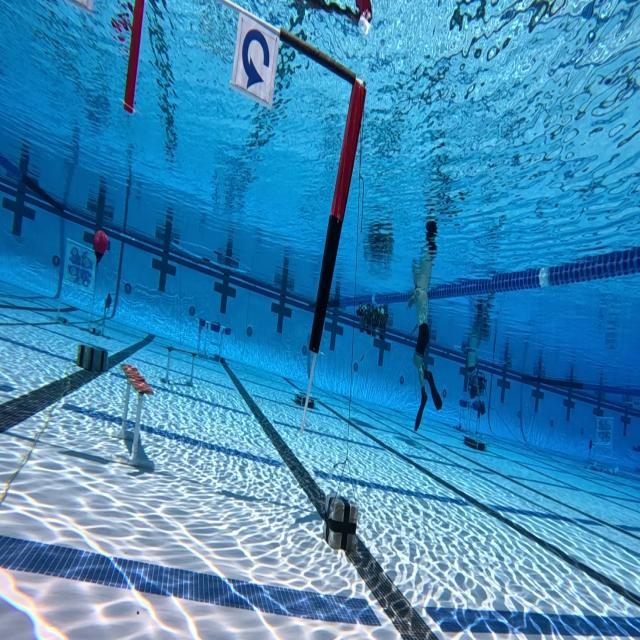blue_side: (229, 8, 282, 112)
